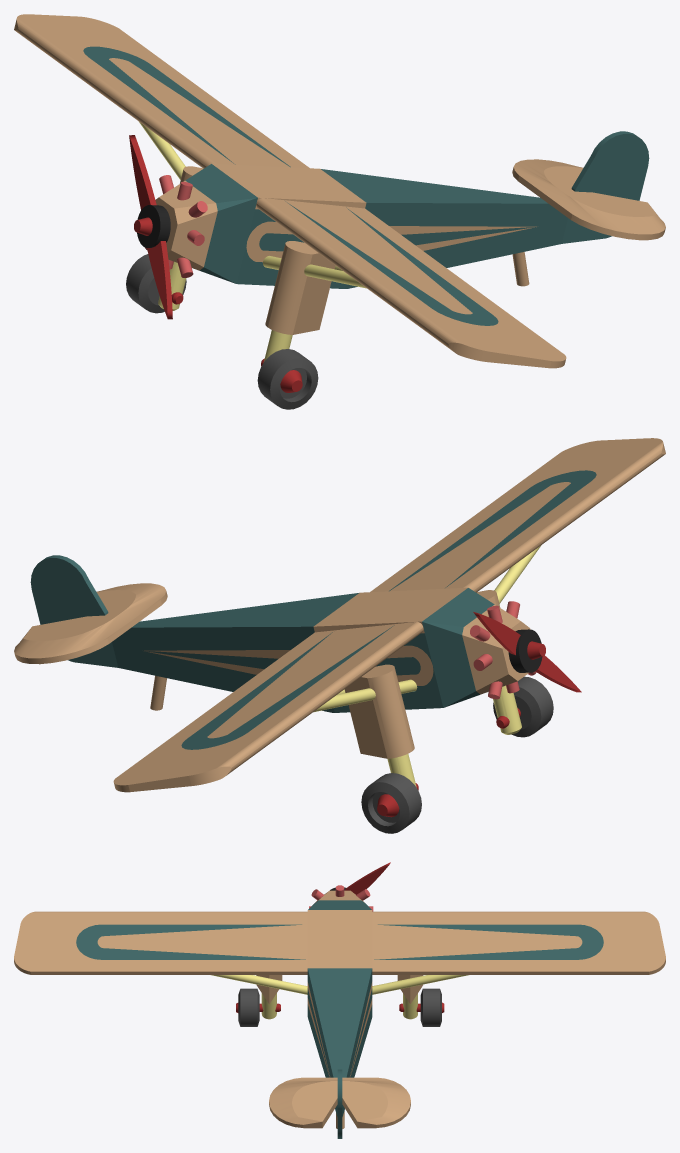
File: Vintage+ToyAirplan.obj
3 renders of one model, top to bottom at view 1: azimuth 30°, elevation 25°; view 2: azimuth 150°, elevation 25°; view 3: azimuth 270°, elevation 25°, orthographic. The views are drawn at different scales.
Visible parts, largest first — view 1: Mesh7 wing1 Group1 Model, Mesh5 body1 Group1 Model, Mesh8 elevator1 Group1 Model, Mesh13 shock_absorbers1 Group1 Model, Mesh6 engine1 Group1 Model, Mesh18 wheels1 Group1 Model, Mesh9 propeller1 Group1 Model, Mesh20 wheels2 Group1 Model, Mesh10 propeller1 Group1 Model, Mesh1 Group2 Group1 Model, Mesh4 Group5 Group1 Model; view 2: Mesh7 wing1 Group1 Model, Mesh5 body1 Group1 Model, Mesh8 elevator1 Group1 Model, Mesh15 shock_absorbers2 Group1 Model, Mesh6 engine1 Group1 Model, Mesh20 wheels2 Group1 Model, Mesh18 wheels1 Group1 Model, Mesh9 propeller1 Group1 Model, Mesh4 Group5 Group1 Model, Mesh14 wheel_post1 Group1 Model, Mesh10 propeller1 Group1 Model, Mesh1 Group2 Group1 Model; view 3: Mesh7 wing1 Group1 Model, Mesh5 body1 Group1 Model, Mesh8 elevator1 Group1 Model, Mesh20 wheels2 Group1 Model, Mesh18 wheels1 Group1 Model, Mesh2 Group3 Group1 Model, Mesh3 Group4 Group1 Model, Mesh10 propeller1 Group1 Model.
Boxes of the visible parts, x1,y1,x2,y2 form: Mesh7 wing1 Group1 Model: (14,14,566,368); Mesh5 body1 Group1 Model: (185,131,649,288); Mesh8 elevator1 Group1 Model: (512,159,665,240); Mesh13 shock_absorbers1 Group1 Model: (265,241,335,334); Mesh6 engine1 Group1 Model: (155,180,217,270); Mesh18 wheels1 Group1 Model: (257,349,318,409); Mesh9 propeller1 Group1 Model: (137,205,172,319); Mesh20 wheels2 Group1 Model: (126,254,186,313); Mesh10 propeller1 Group1 Model: (129,135,156,210); Mesh1 Group2 Group1 Model: (263,256,366,288); Mesh4 Group5 Group1 Model: (139,122,185,179); Mesh7 wing1 Group1 Model: (113,438,665,792); Mesh5 body1 Group1 Model: (30,555,494,712); Mesh8 elevator1 Group1 Model: (14,583,167,664); Mesh15 shock_absorbers2 Group1 Model: (344,664,414,758); Mesh6 engine1 Group1 Model: (462,604,530,694); Mesh20 wheels2 Group1 Model: (361,773,421,833); Mesh18 wheels1 Group1 Model: (493,676,553,737); Mesh9 propeller1 Group1 Model: (508,629,581,692); Mesh4 Group5 Group1 Model: (313,679,417,712); Mesh14 wheel_post1 Group1 Model: (493,685,521,734); Mesh10 propeller1 Group1 Model: (473,612,520,655); Mesh1 Group2 Group1 Model: (494,545,541,603); Mesh7 wing1 Group1 Model: (14,910,665,974); Mesh5 body1 Group1 Model: (307,900,372,1138); Mesh8 elevator1 Group1 Model: (269,1077,410,1128); Mesh20 wheels2 Group1 Model: (420,988,441,1026); Mesh18 wheels1 Group1 Model: (238,988,259,1026); Mesh2 Group3 Group1 Model: (211,975,307,994); Mesh3 Group4 Group1 Model: (372,975,468,994); Mesh10 propeller1 Group1 Model: (345,862,390,894).
Bounding box in the file's own units: 12 × 4.65 × 19.
